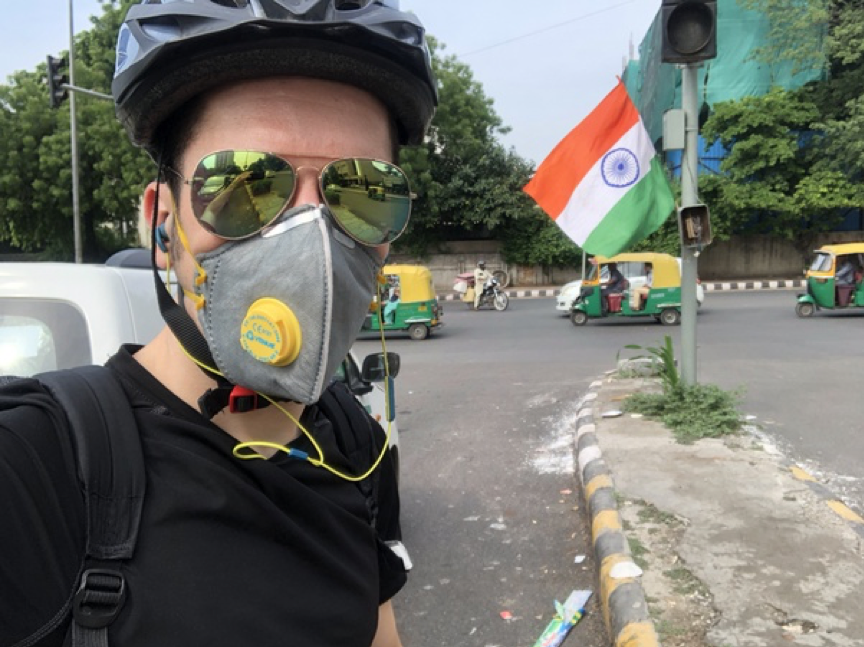n95: (187, 208, 389, 407)
